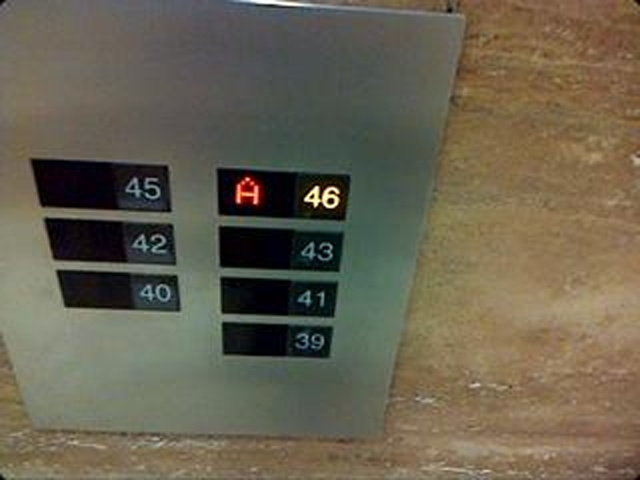39: (283, 320, 335, 362)
40: (127, 271, 183, 316)
41: (285, 276, 340, 321)
42: (118, 216, 179, 268)
43: (288, 227, 347, 275)
45: (110, 161, 173, 215)
46: (295, 170, 352, 222)
led: (214, 166, 304, 220)
